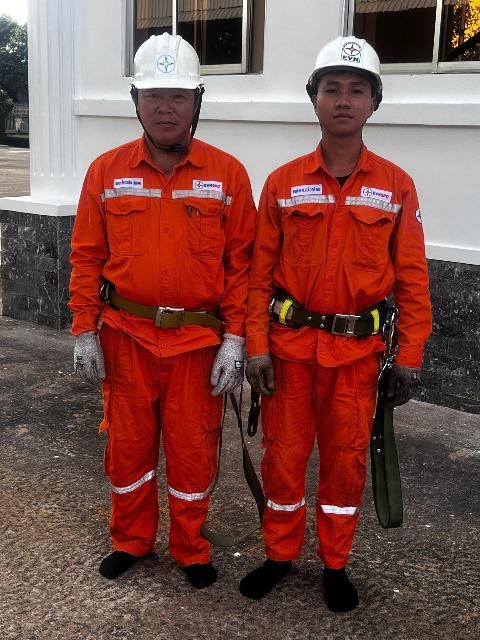gloves: (201, 333, 246, 400), (64, 328, 111, 386), (386, 358, 427, 410), (242, 350, 282, 398)
harness: (94, 276, 231, 334), (264, 290, 401, 342)
helmet: (109, 26, 231, 107), (296, 35, 398, 99)
shoes: (233, 549, 303, 607), (312, 551, 369, 618), (172, 539, 228, 600), (90, 535, 153, 580)
